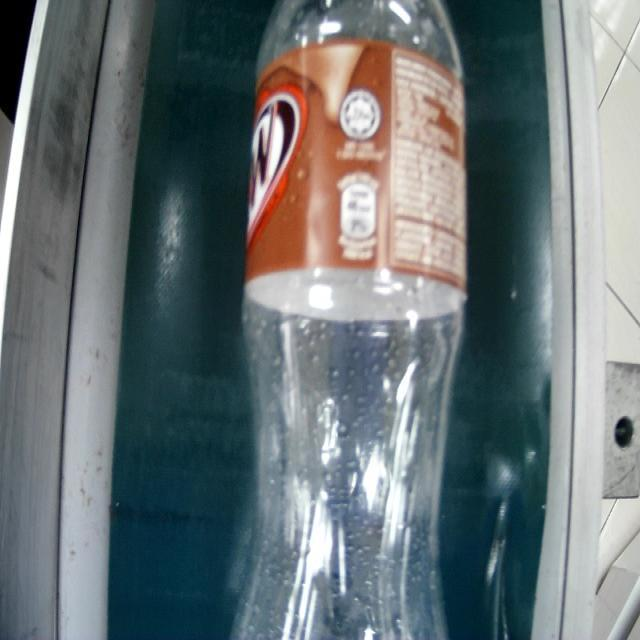Pet_Bottle: (238, 0, 467, 640)
